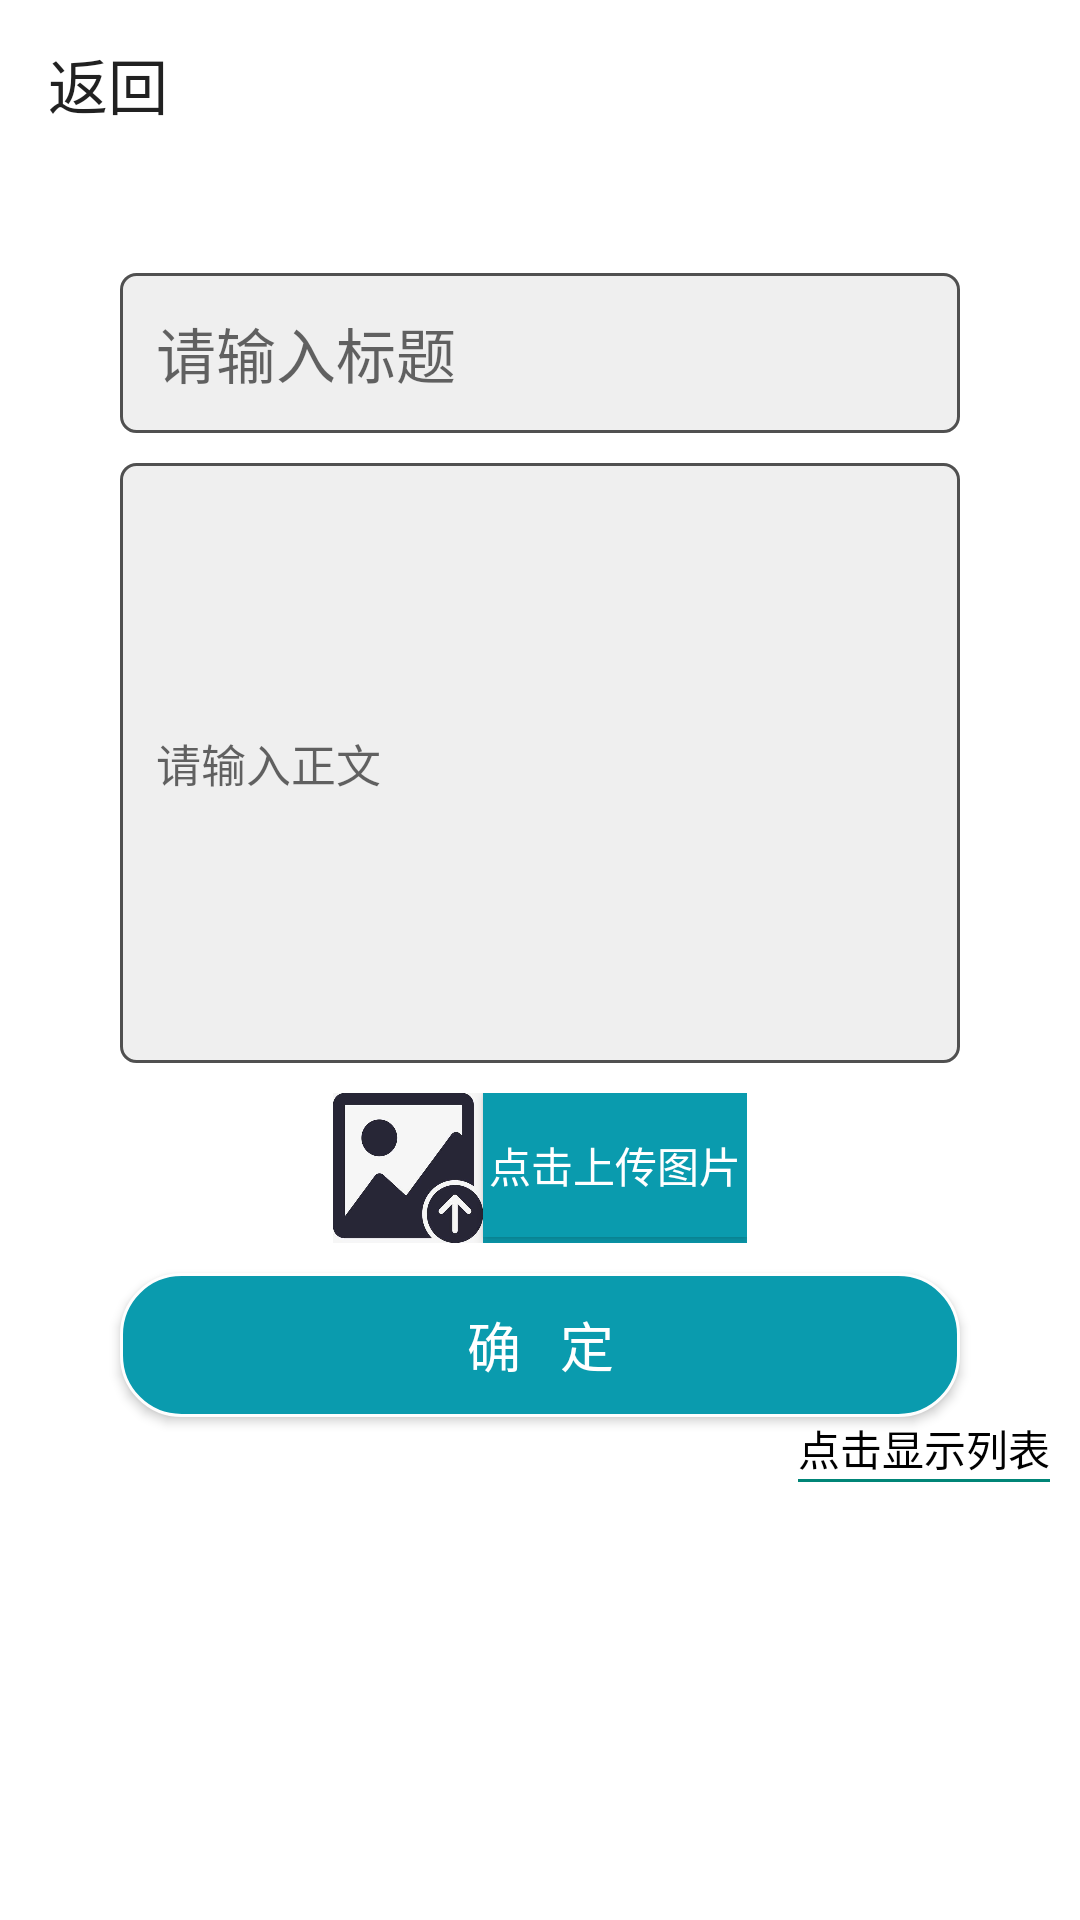

Icon click points for this 1080 x 1920 phone screenshot, format (x=x, y=y):
upimg: (x=403, y=1166)
